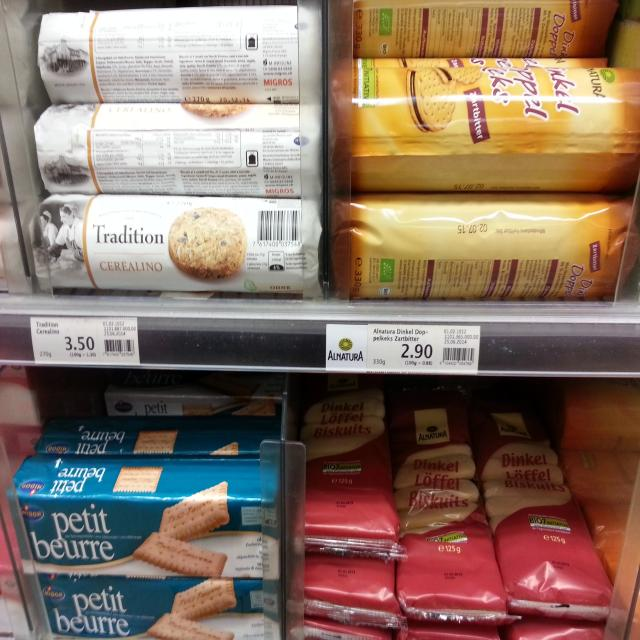Biscuits: (331, 58, 640, 195), (3, 450, 282, 581), (334, 192, 640, 300), (473, 407, 627, 617), (25, 198, 324, 298), (388, 394, 512, 627), (43, 8, 324, 105), (29, 105, 328, 196), (288, 386, 408, 550), (16, 573, 281, 640)
